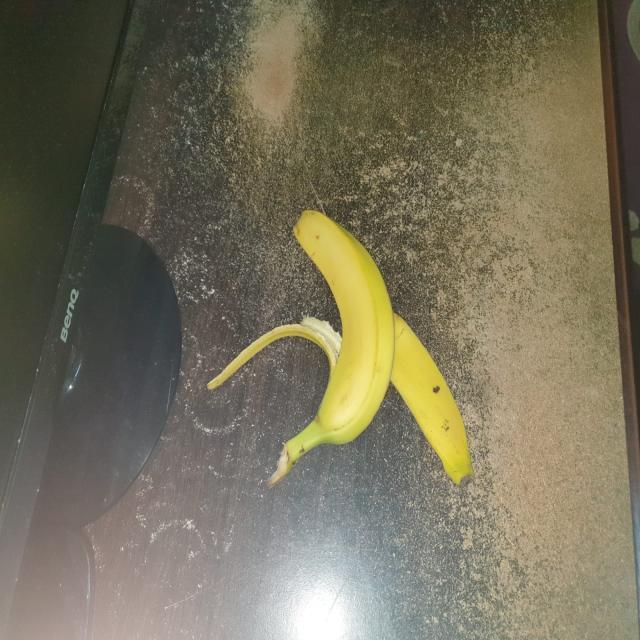banana-peel: (205, 207, 473, 490)
